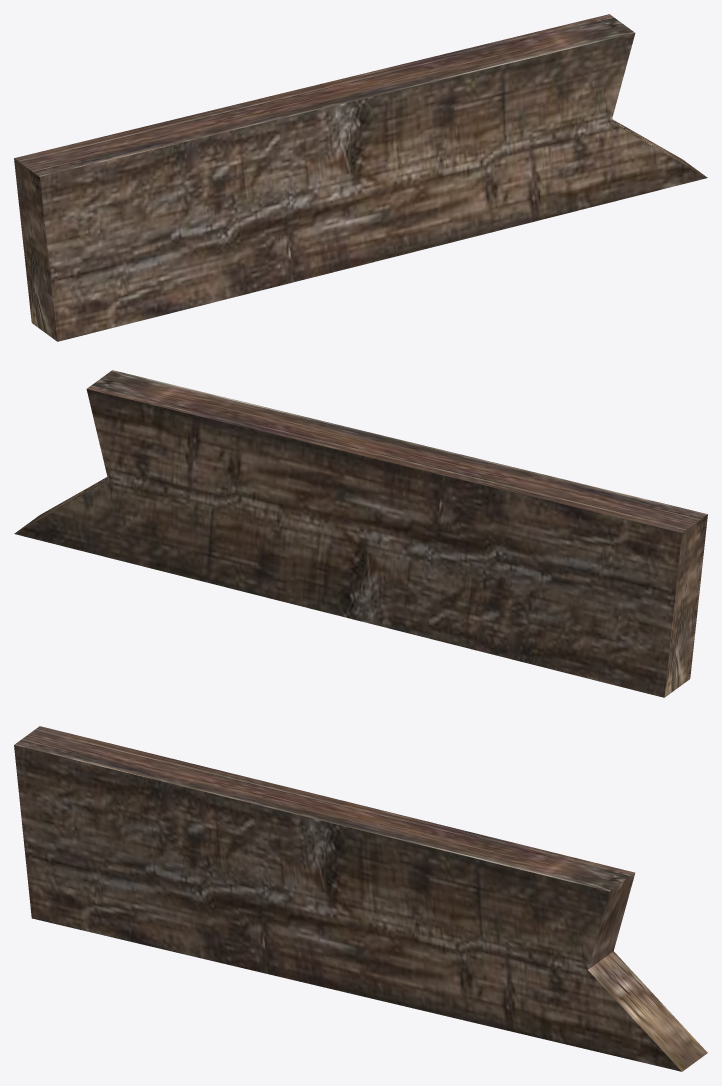
File: FencePlank5.fbx
3 renders of one model, top to bottom at view 1: azimuth 30°, elevation 25°; view 2: azimuth 150°, elevation 25°; view 3: azimuth 330°, elevation 25°, orthographic.
Visible parts, largest first — view 1: FencePlank5; view 2: FencePlank5; view 3: FencePlank5.
Boxes of the visible parts, <box> form: FencePlank5: <box>14,14,707,341</box>; FencePlank5: <box>14,370,707,697</box>; FencePlank5: <box>14,726,707,1071</box>.
Size of the model in its own units: 99.14 by 23.98 by 6.96.
1 material, 1 textured.
